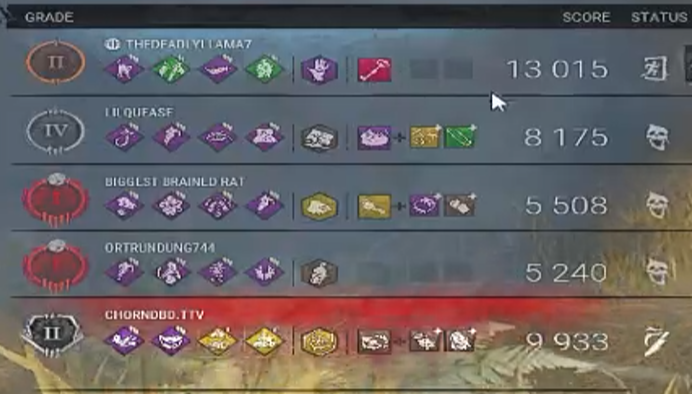agitation: (150, 326, 189, 356)
any_means_necessary: (151, 256, 190, 286)
borrowed_time: (104, 190, 143, 220)
breakdown: (152, 191, 191, 221)
brutal_strength: (104, 326, 143, 356)
built_to_last: (150, 54, 189, 84)
dead_hard: (152, 123, 191, 153), (244, 191, 283, 221), (104, 257, 143, 287)
deadlock: (199, 326, 238, 356)
distortion: (198, 256, 237, 286)
empathy: (244, 121, 283, 151)
hope: (246, 257, 285, 287)
kindred: (197, 123, 236, 153)
kinship: (197, 191, 236, 221)
left_behind: (245, 53, 284, 83)
lightweight: (198, 53, 237, 83)
no_one_escapes_death: (244, 326, 283, 356)
saboteur: (104, 122, 143, 152)
spine_chill: (105, 54, 144, 84)
